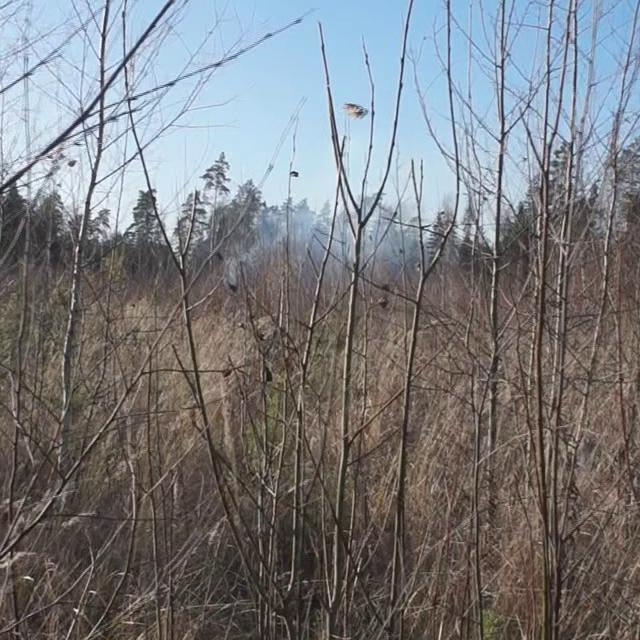Smoke: (225, 182, 443, 284)
